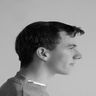ear: (32, 44, 53, 65)
